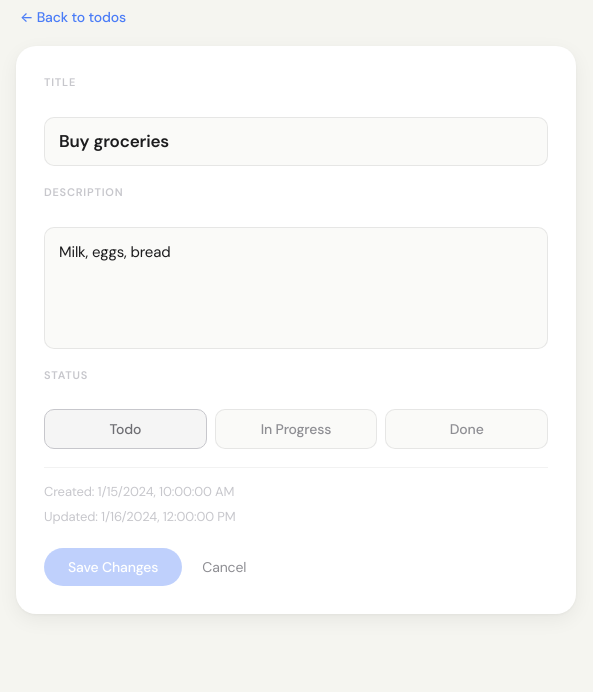
Test: TodoDetailPage › shows an error message when save fails
The image size is (593, 692).
Step 1. Replace the text in the field showing "Buy groceries" with "Updated" → (296, 141), box [44,116,548,166]
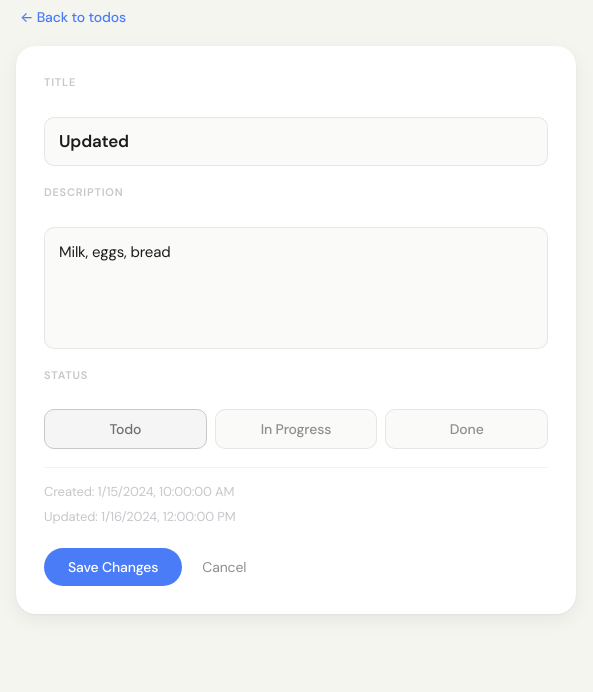
Step 2. Click the button "Save Changes" → (113, 567), box [44,548,182,586]
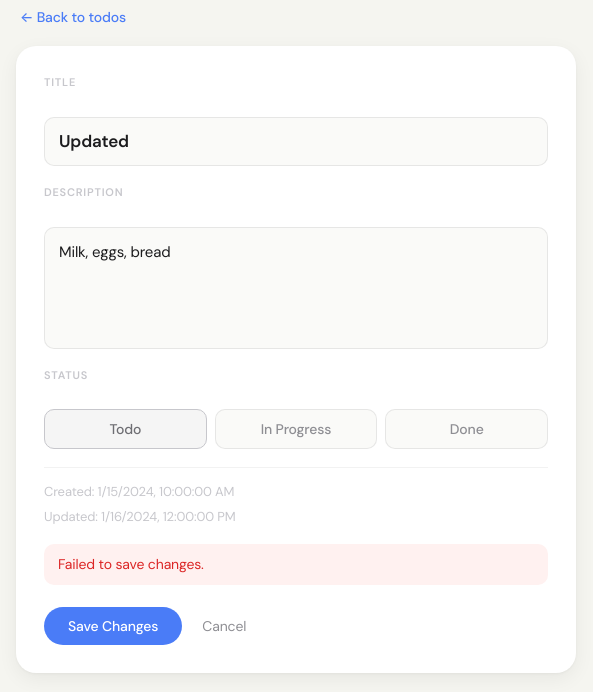
Result: the text "Failed to save changes." is shown at [44,544,548,585]
